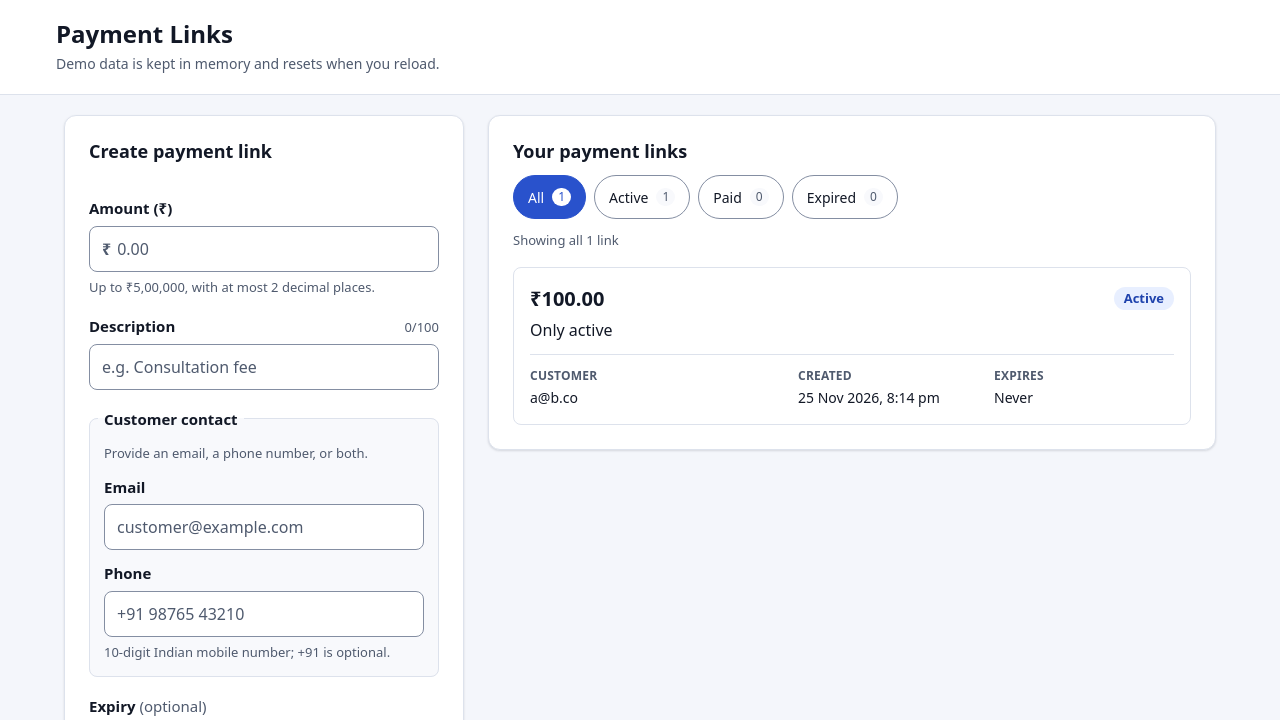
Scenario: Empty states › shows a no-matches state with a way back to all links
The width and height of the screenshot is (1280, 720).
Step 1. Click the button "Paid 0" → (741, 197), box 698,175 -> 784,219
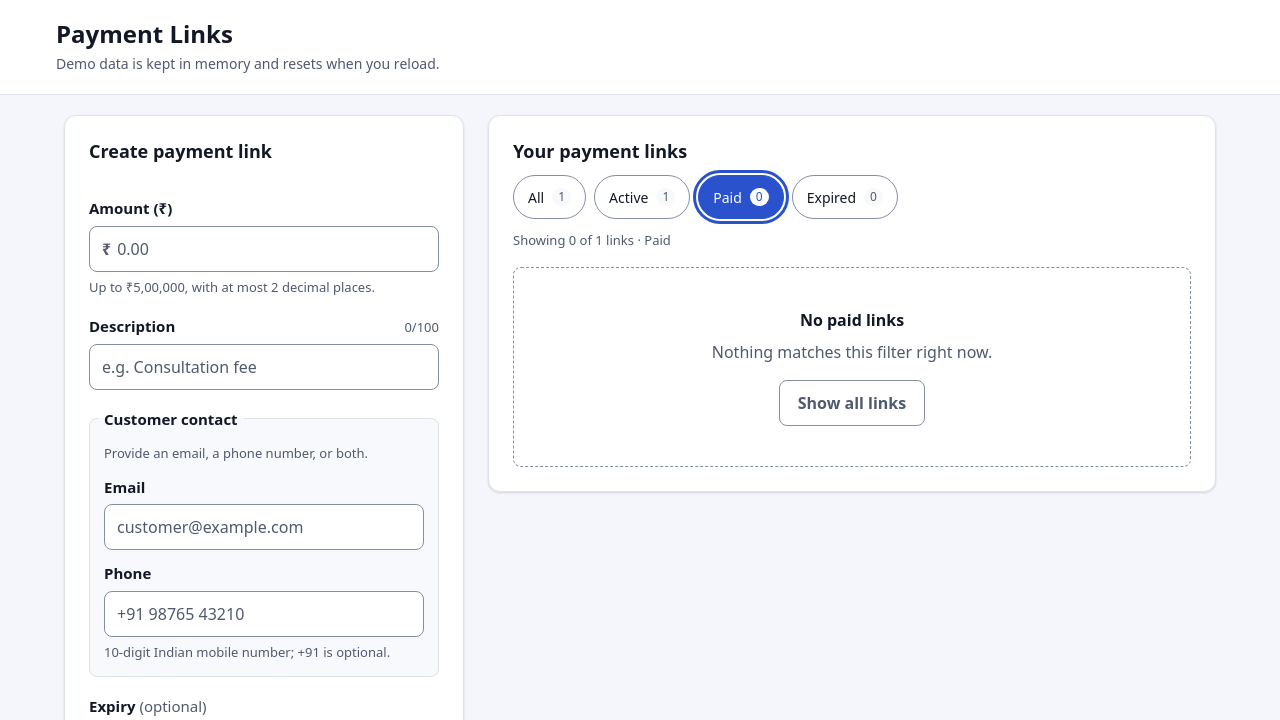
Expected: the text "No paid links" is shown, 800,308 -> 904,332
Step 2. Click the button "Show all links" → (852, 403), box 779,380 -> 925,426
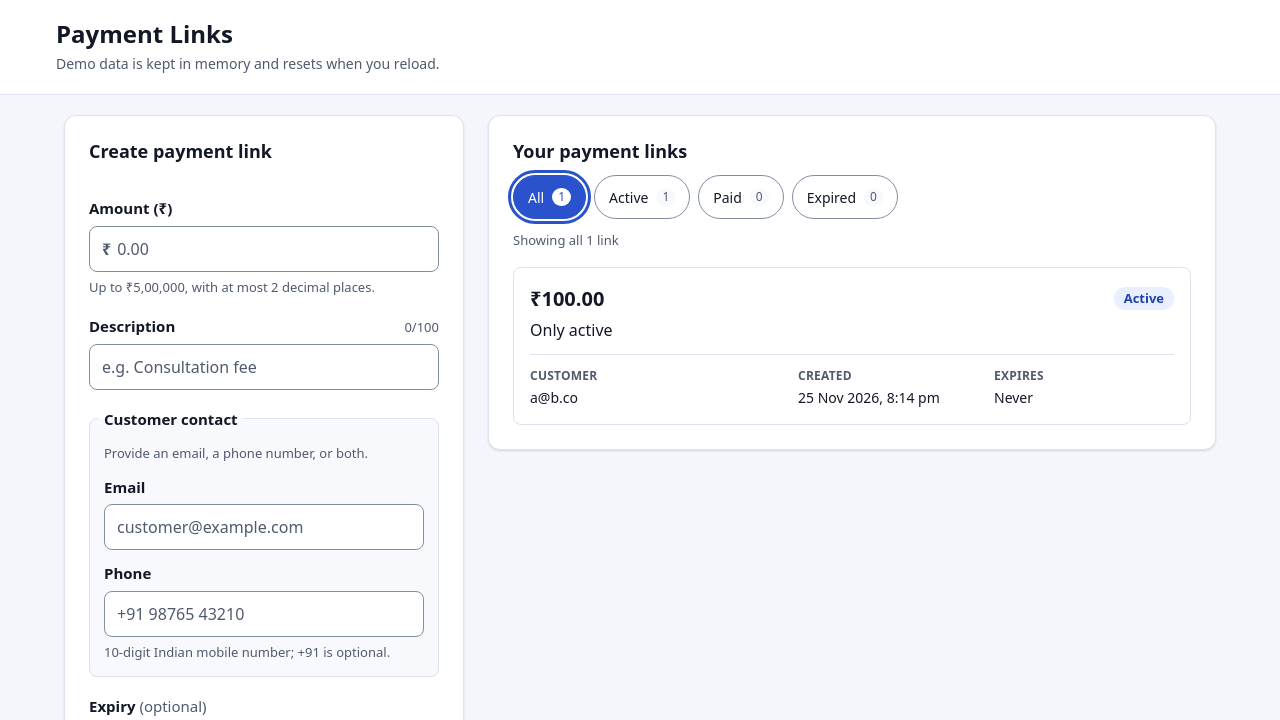
Expected: the list item "Only active" is shown, 530,319 -> 612,341
